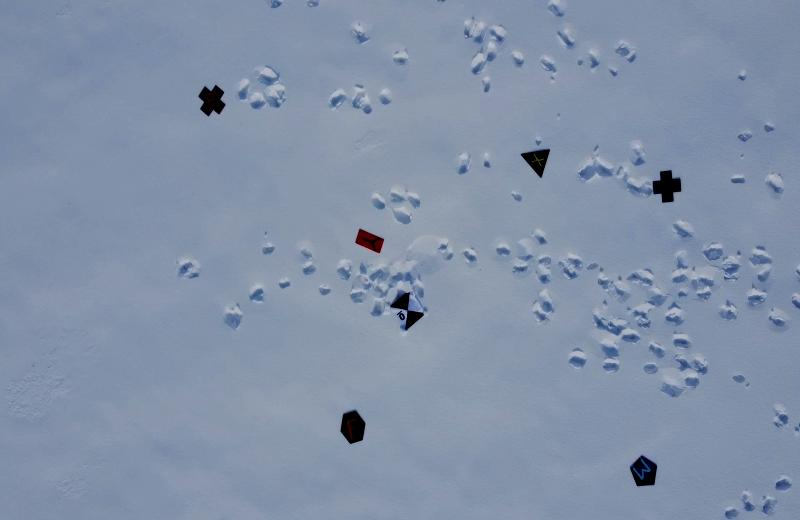Cross: (650, 167, 685, 208), (197, 78, 229, 120)
Hexagon: (341, 406, 369, 448)
Pentagon: (626, 449, 660, 490)
Rectangle: (351, 229, 386, 256)
Triangle: (522, 142, 553, 180)
